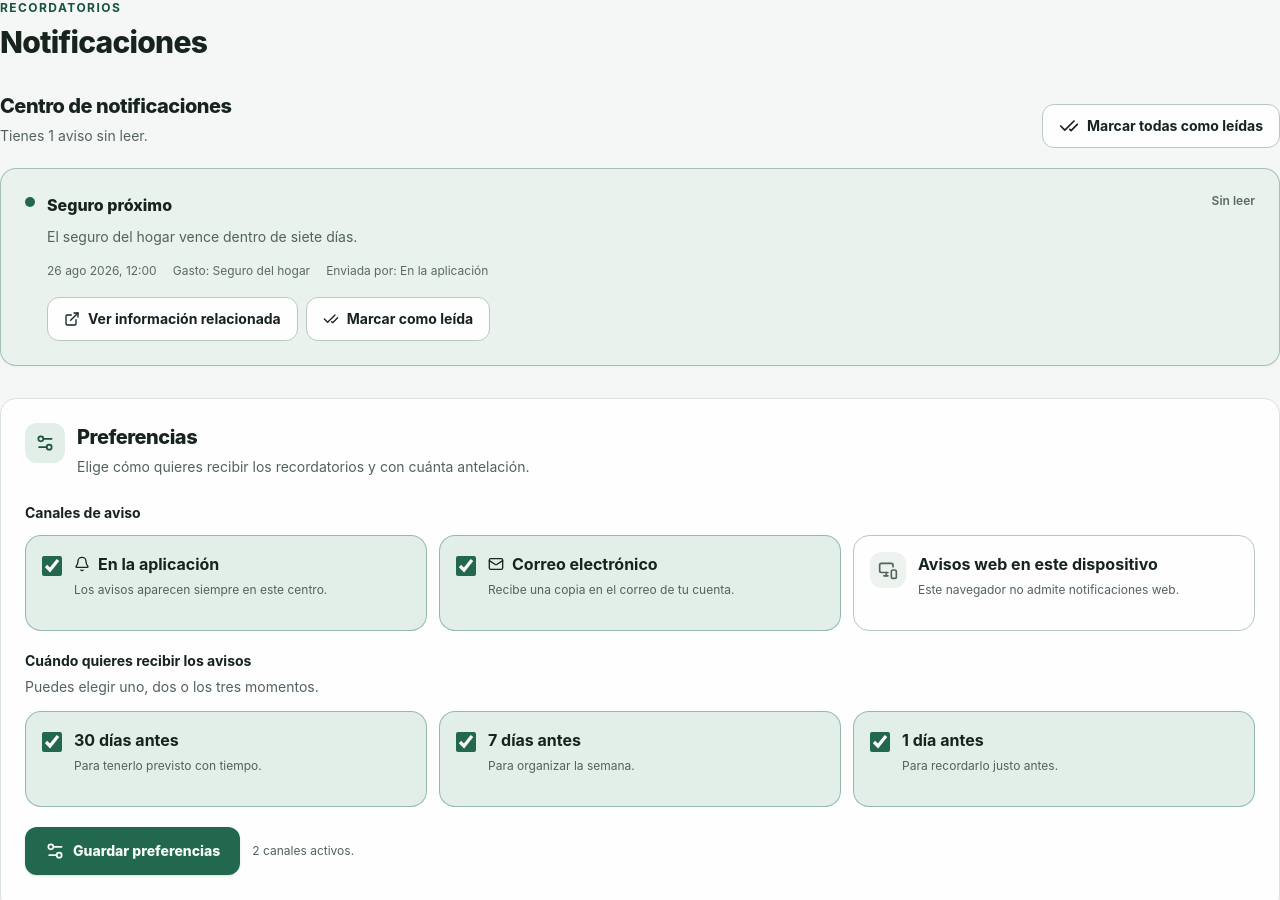
Scenario: NotificationsPage › muestra avisos reales y permite marcar uno como leído
The image size is (1280, 900).
Expected: the heading "Seguro próximo" is shown, [47,193,172,217]
Expected: the text "Tienes 1 aviso sin leer." is shown, [0,127,148,144]
Click the button "Marcar como leída": [398, 319] box [306,297,490,341]
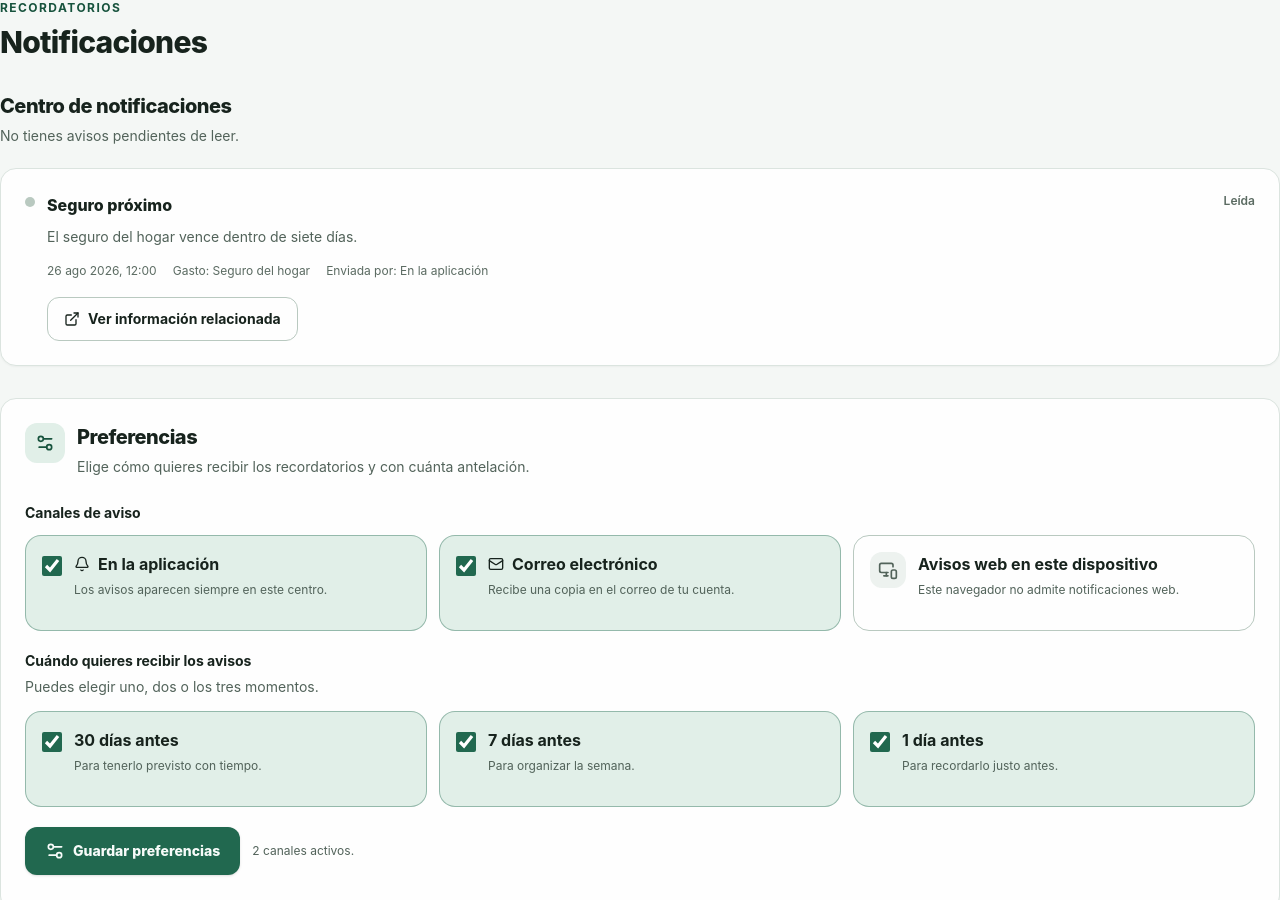
Expected: the text "Leída" is shown, [1224,193,1255,209]
